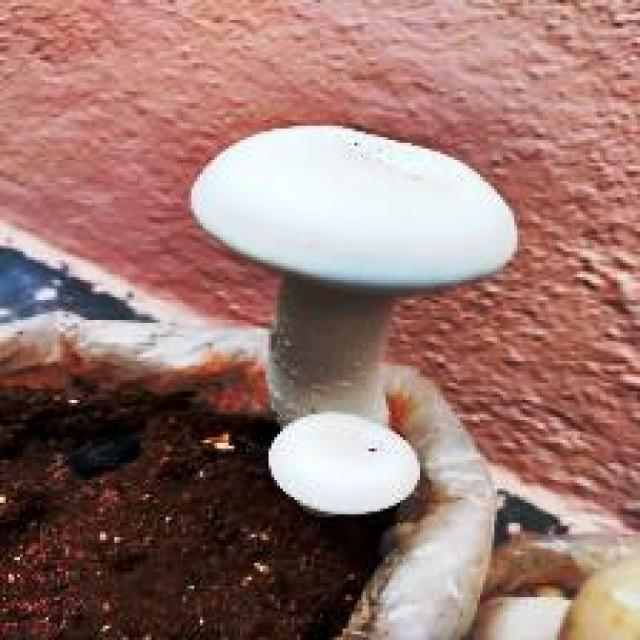field-mushroom: (186, 120, 517, 429)
